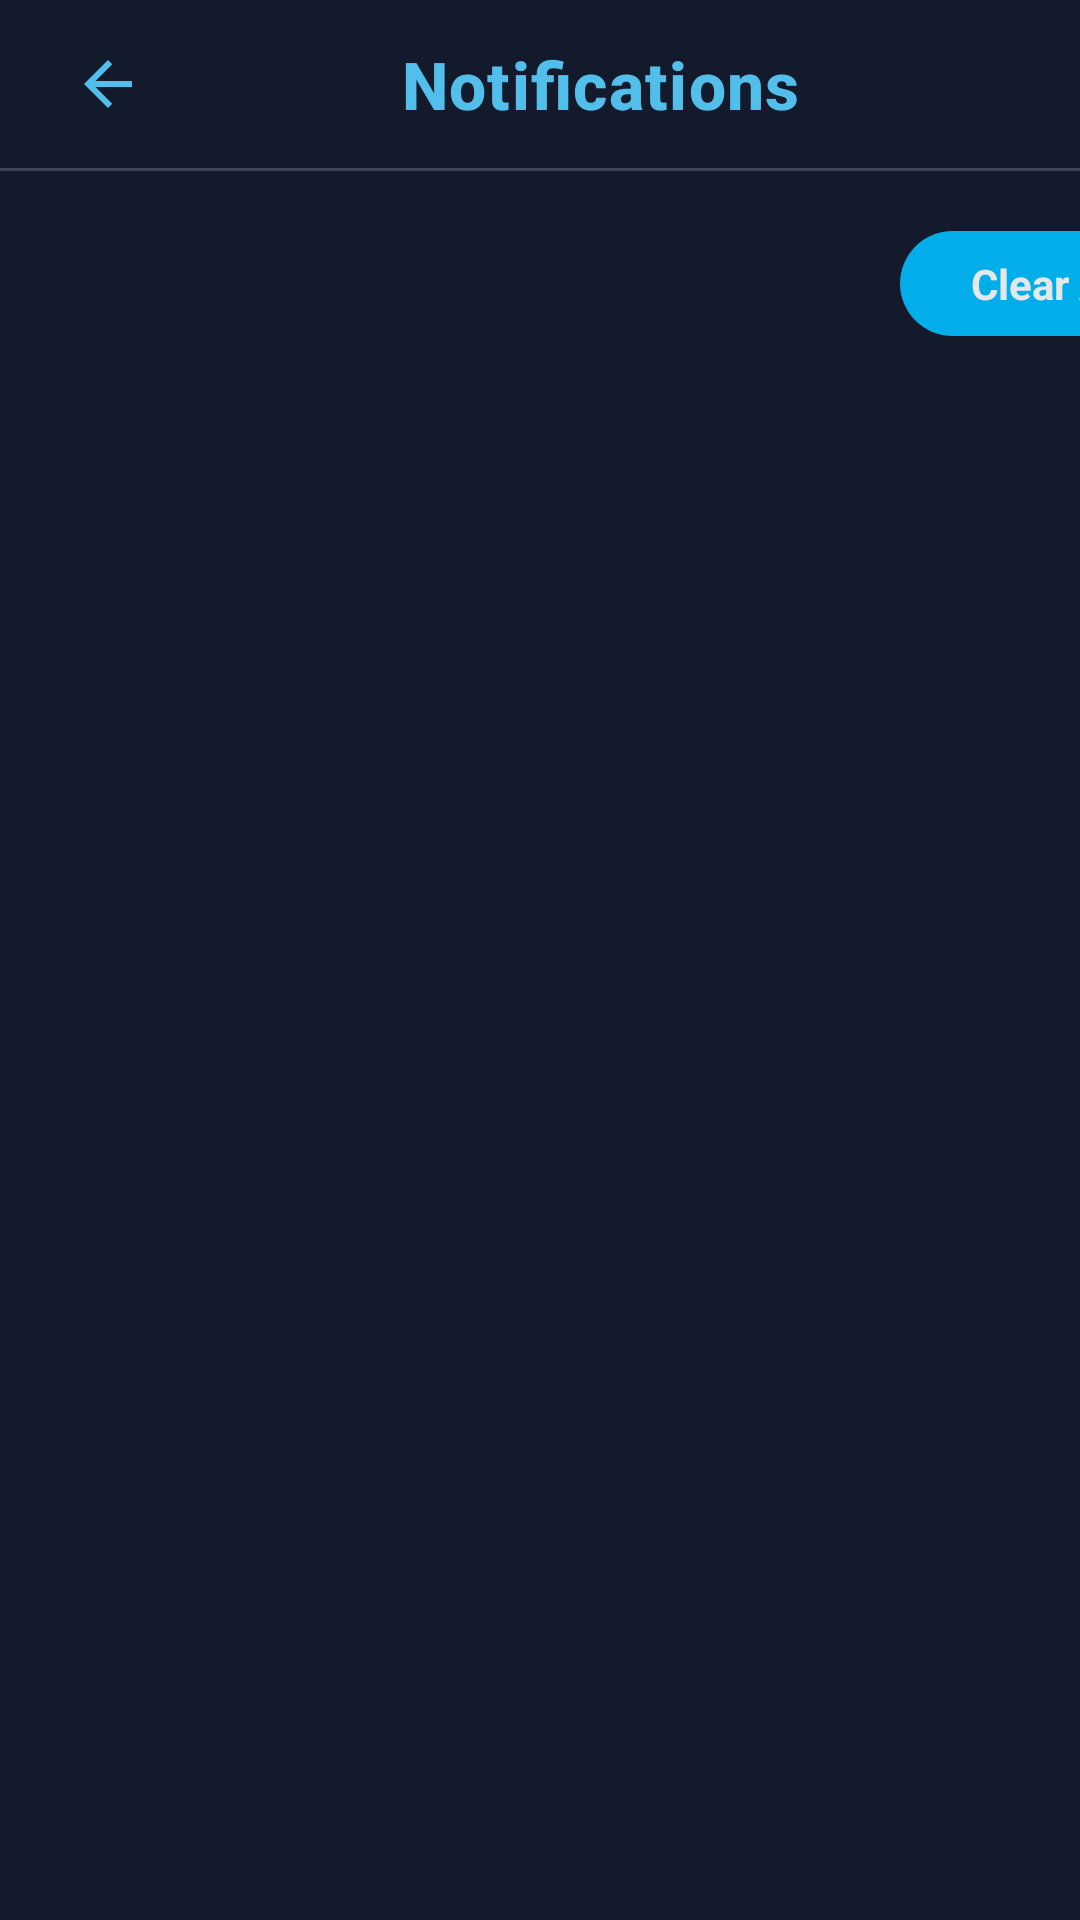

Named icons in this screenshot (1080*1920) and their bounding boxes, (x1, y1, x2, y2):
back: (84, 60, 132, 108)
